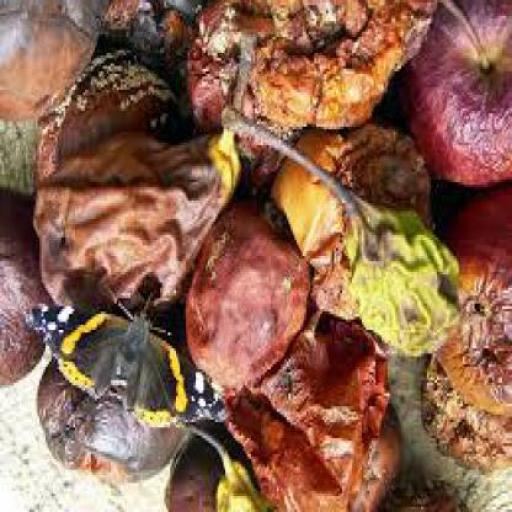biodegradable: (222, 108, 456, 362), (34, 129, 239, 309), (225, 317, 388, 504), (241, 2, 437, 138), (184, 200, 306, 398), (184, 3, 305, 190), (30, 48, 178, 190), (404, 3, 510, 195), (34, 362, 188, 482), (435, 190, 510, 419), (0, 2, 101, 127), (0, 192, 54, 389), (422, 359, 510, 472), (99, 2, 200, 79), (181, 424, 269, 510), (164, 438, 240, 511), (357, 408, 402, 510), (372, 475, 469, 511)
